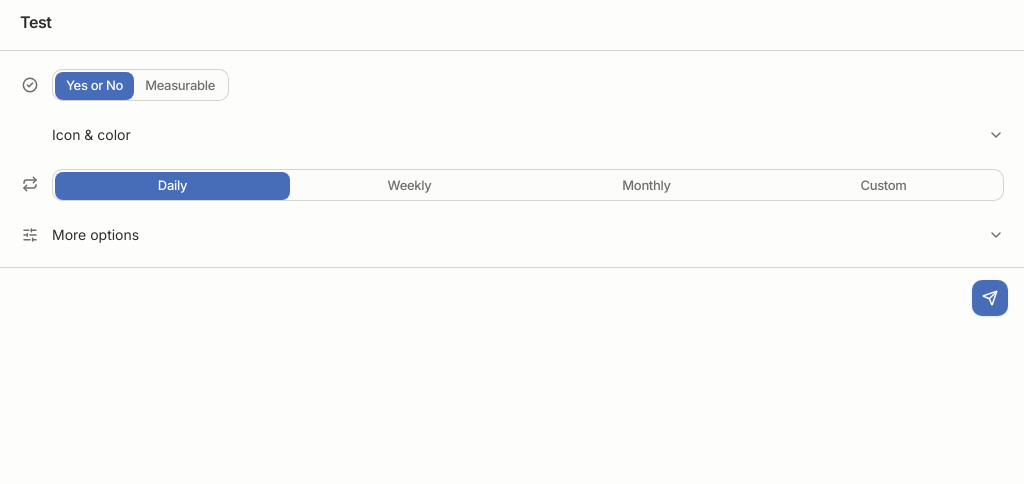
Test: HabitView › keeps question, reminder and details behind More options
Click the button "More options" at (96, 234), box [8,215,1016,255]
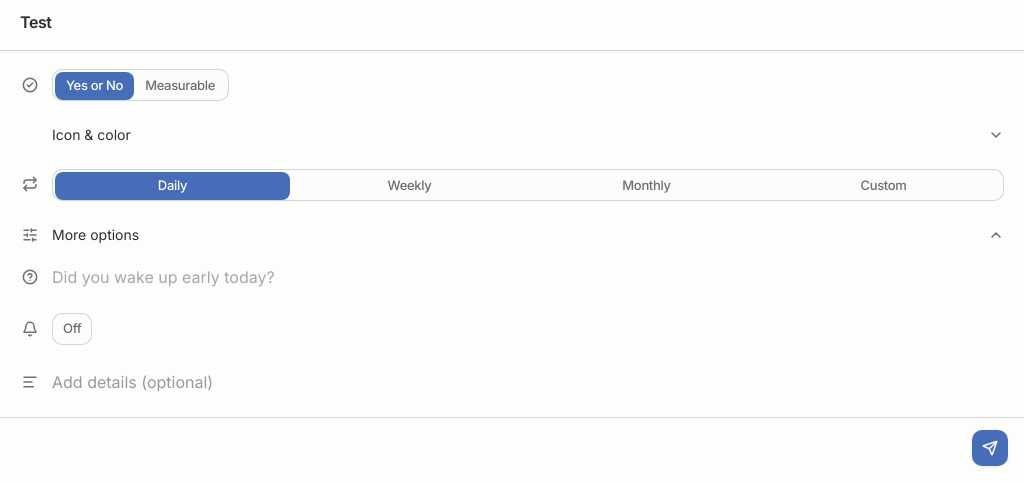
Result: the field named "Habit question" is shown at [52,265,1004,289]
Result: the text box named "Habit details" is shown at [52,369,1004,395]
Result: the button "Off" is shown at [52,313,92,345]
